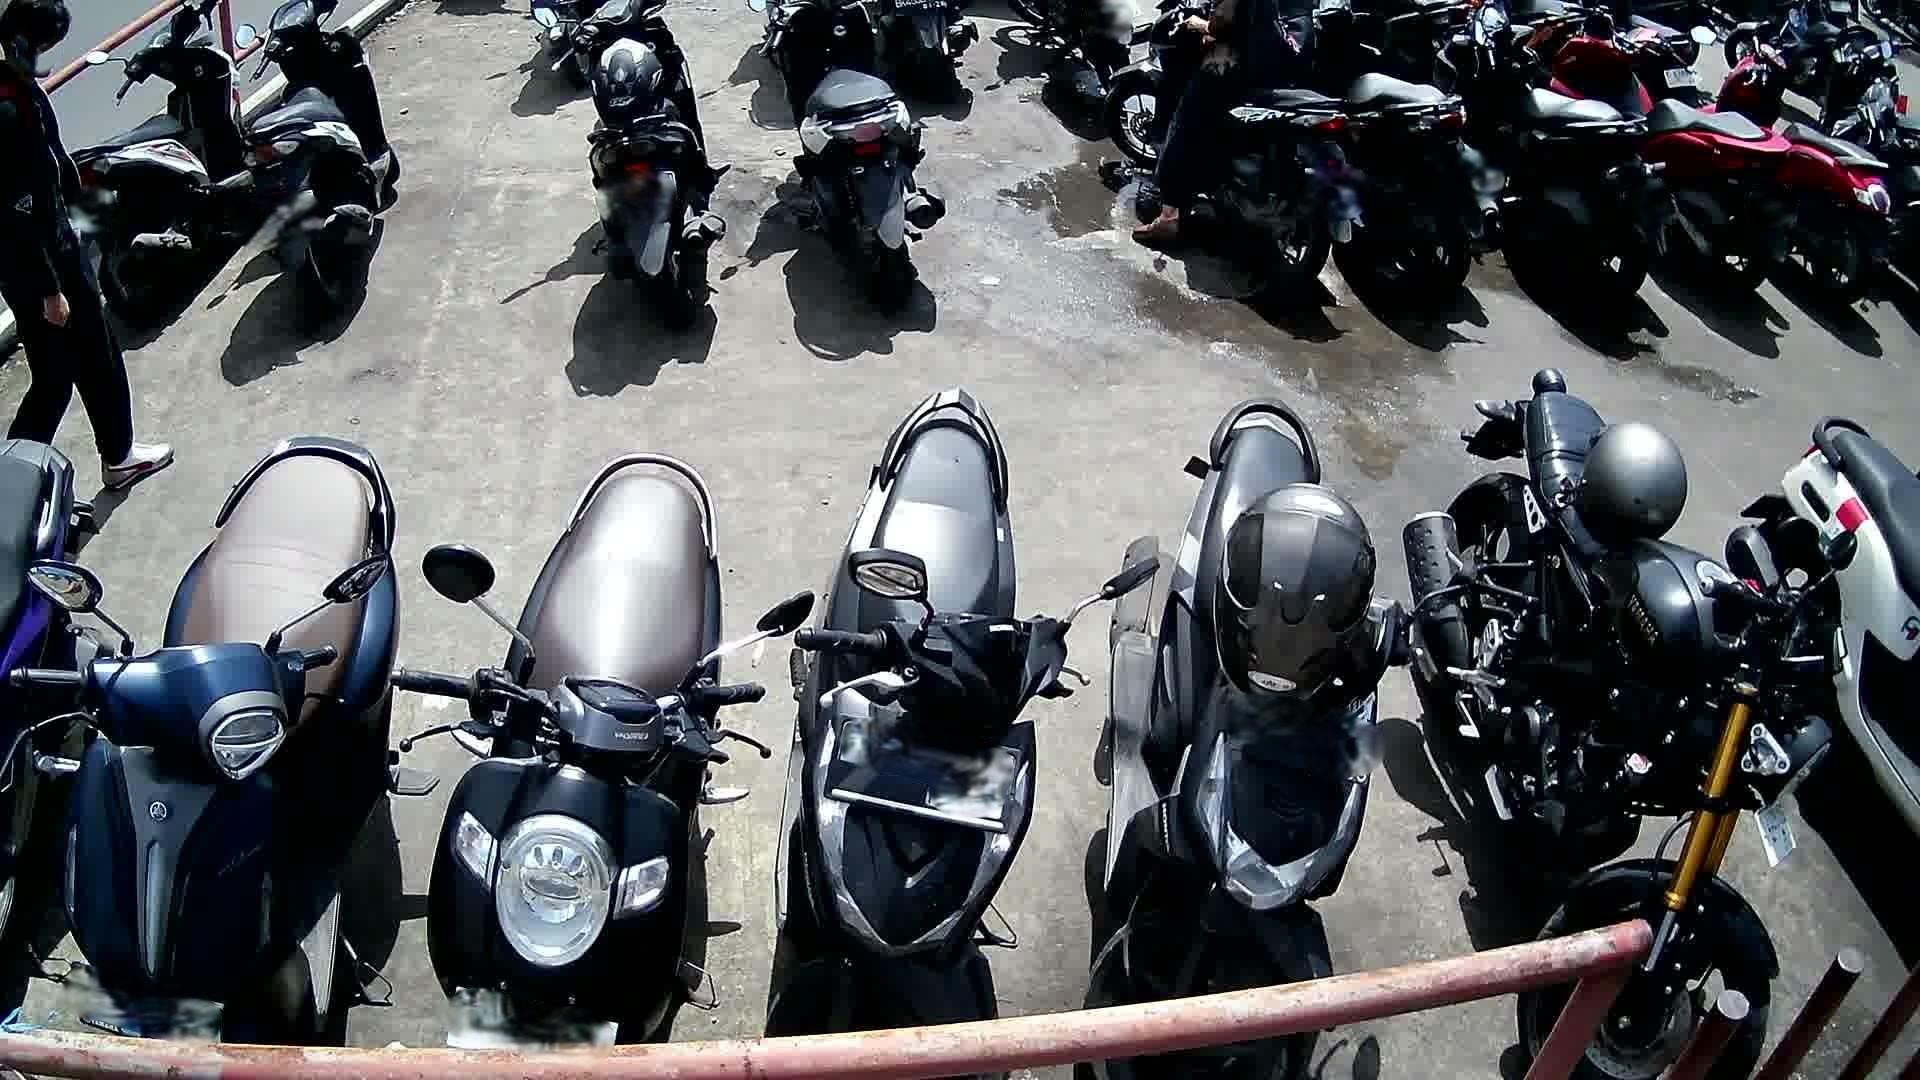motorcycle: (1403, 367, 1837, 1080), (12, 435, 436, 1047), (393, 452, 815, 1048), (765, 386, 1143, 1027), (1077, 397, 1425, 1080), (1725, 411, 1920, 847), (1427, 0, 1677, 311), (1106, 0, 1360, 305), (1545, 0, 1797, 303), (527, 0, 738, 338), (1299, 0, 1511, 311), (746, 0, 949, 324), (71, 1, 253, 322), (233, 0, 405, 334), (1700, 24, 1900, 309), (0, 436, 78, 977)
